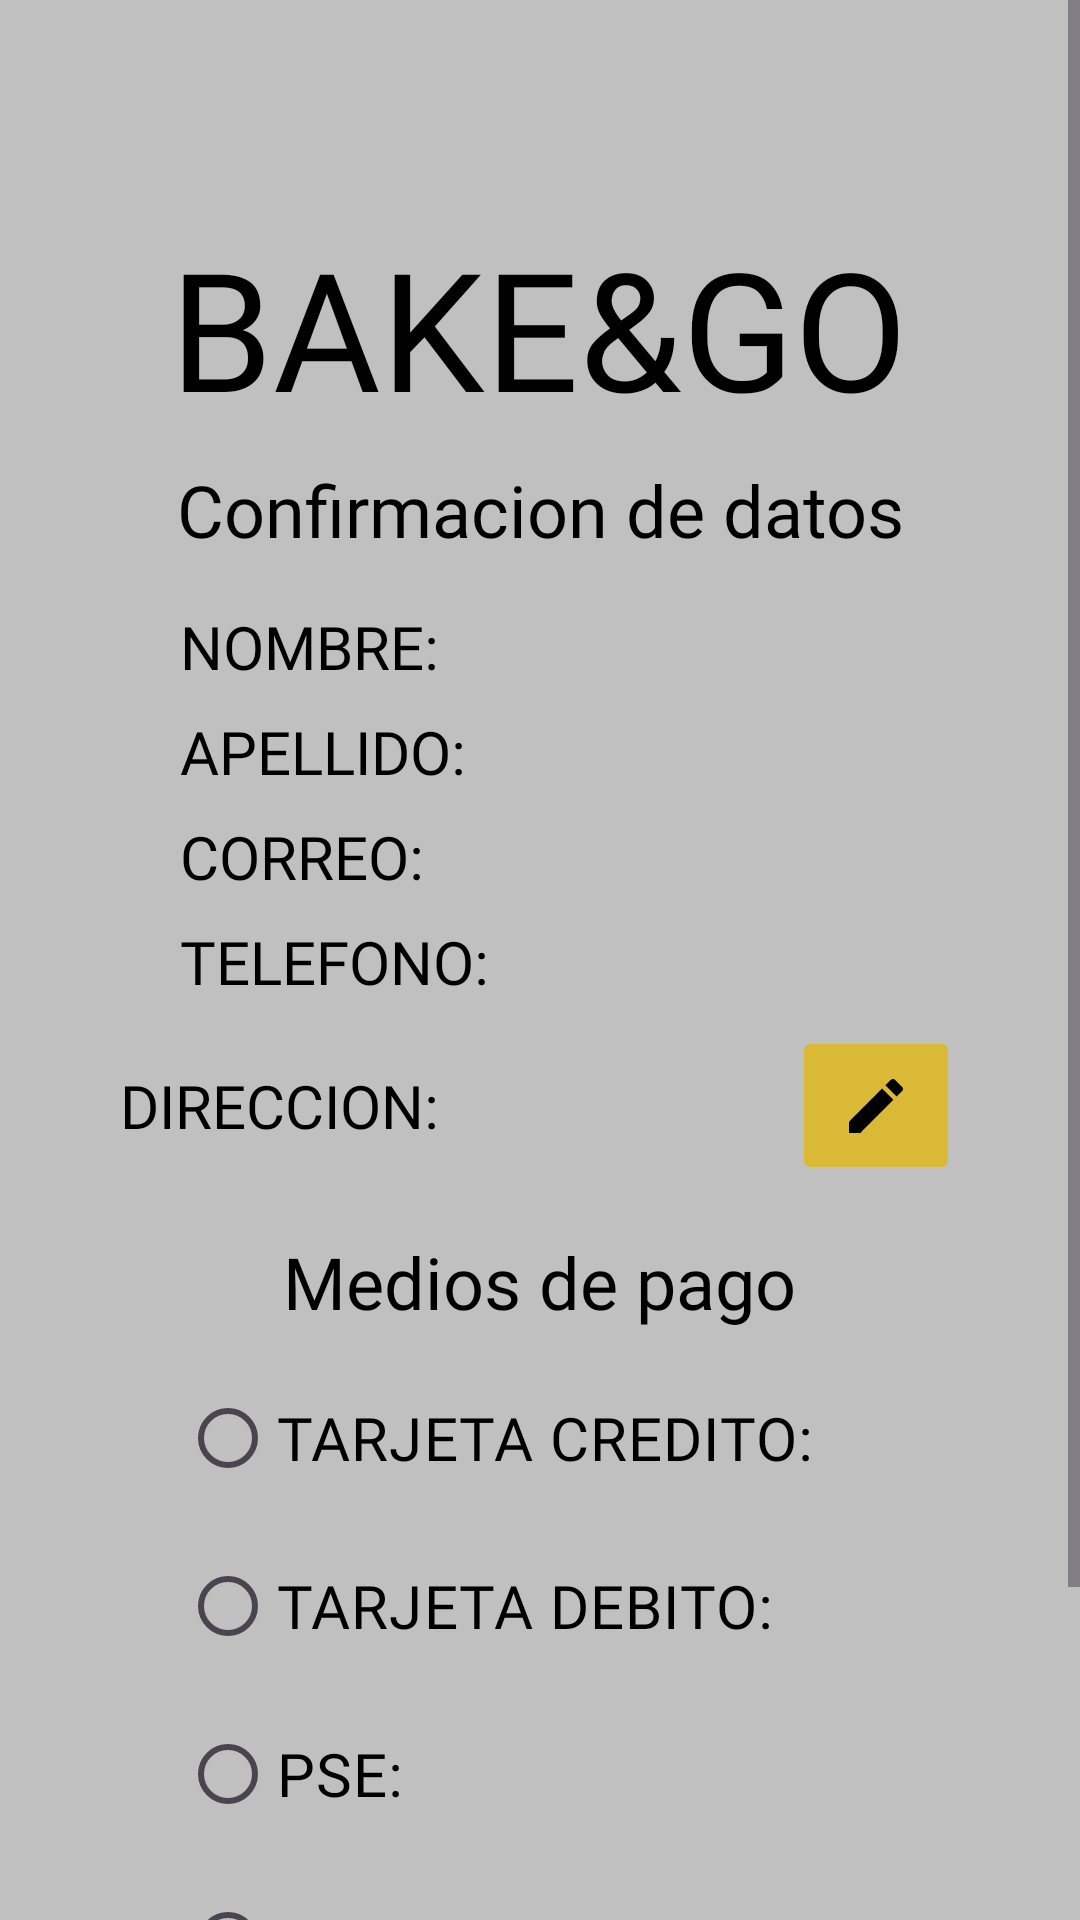

Where to tap for icons on this 1080*1920 app screen, as (x,y):
Boton de editar datos: (876,1105)
